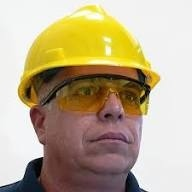safety_goggles: (23, 70, 170, 117)
